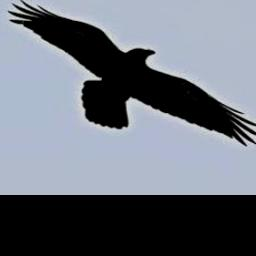Crow: (8, 0, 256, 148)
